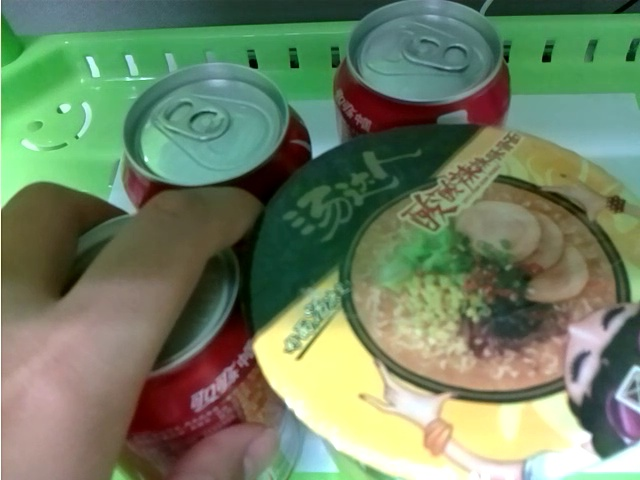cocacola: (67, 215, 299, 480), (116, 66, 312, 207), (333, 3, 511, 129)
hand: (3, 174, 283, 480)
noodles: (252, 128, 640, 480)
